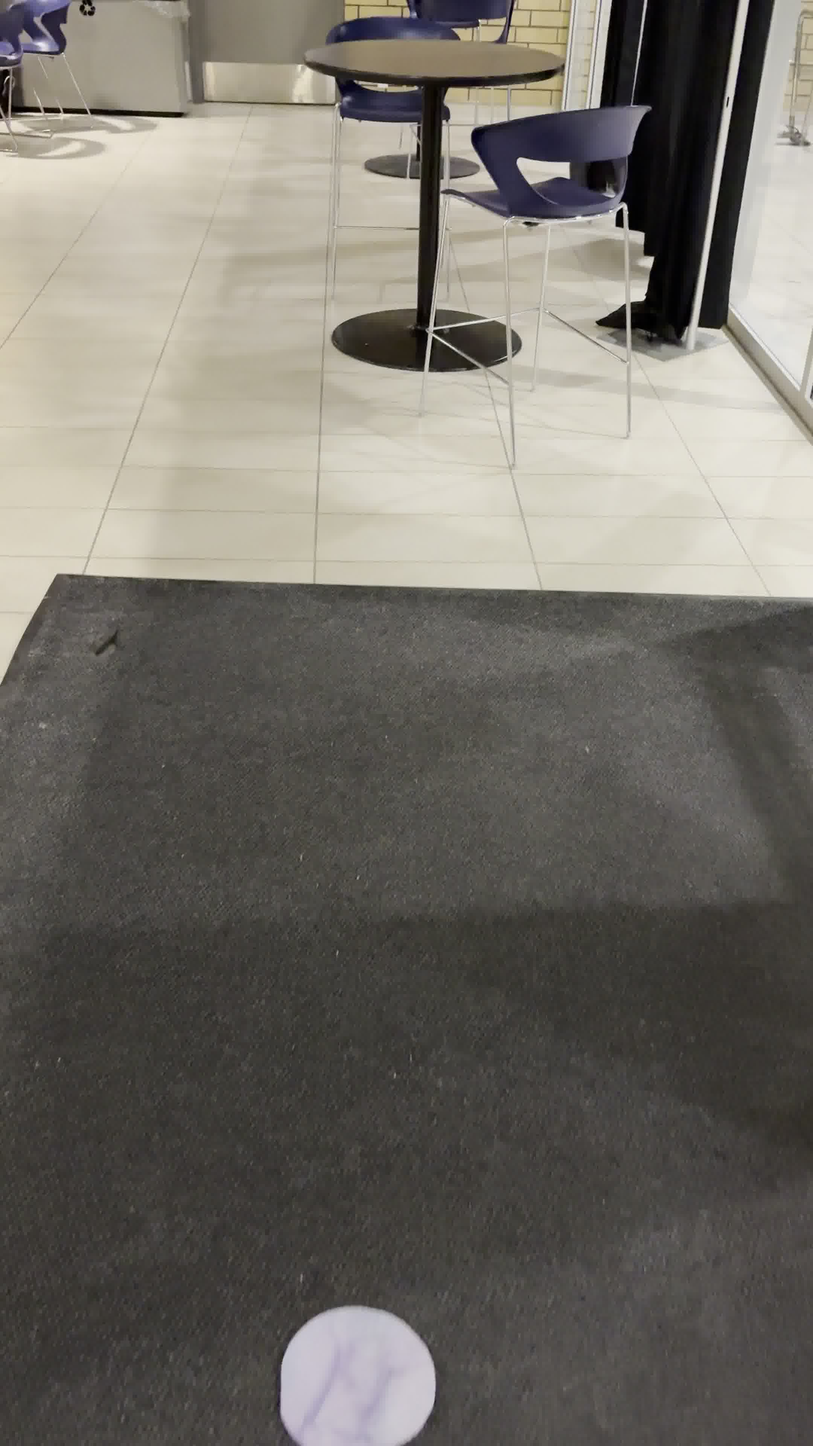Target: (277, 1300, 440, 1446)
